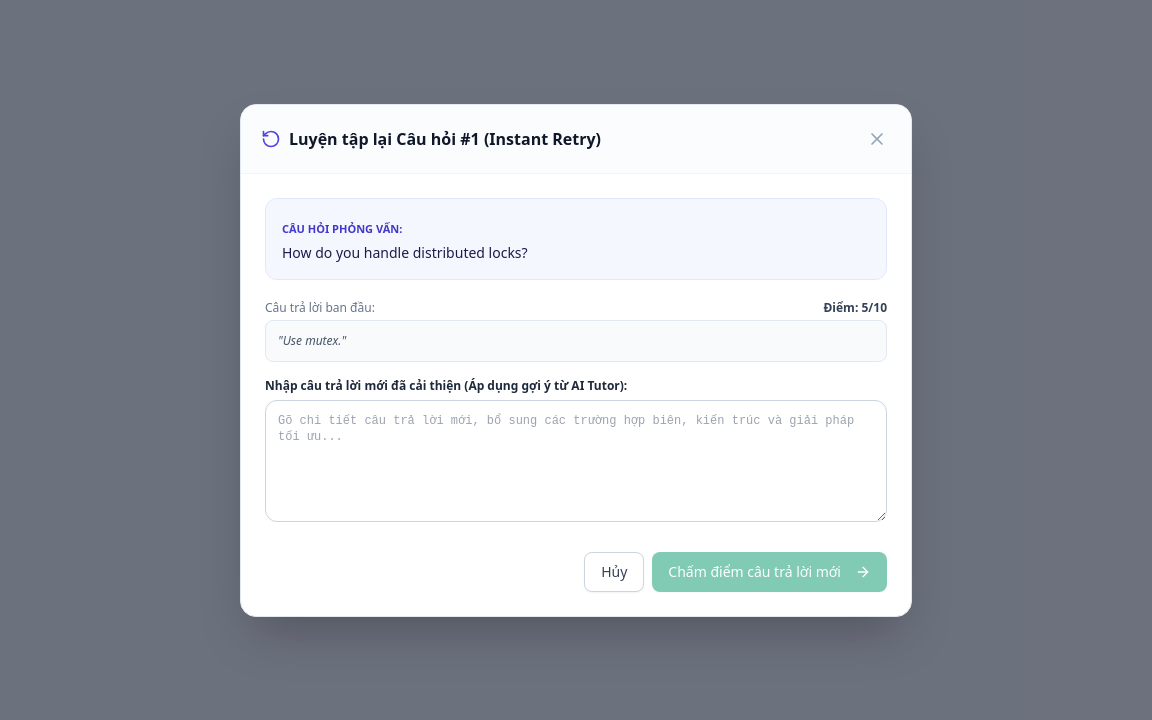
Test: Socratic AI Tutor & Instant Retry Components (F006) › renders InstantRetryModal and computes score delta after submission
expect the heading "Luyện tập lại Câu hỏi #1 (Instant Retry)" is shown: met, box [289, 126, 601, 150]
expect the text "\"Use mutex.\"" is shown: met, box [265, 320, 887, 362]
Replace the text in the text box with placeholder "Gõ chi tiết câu trả lời mới" with "Use distributed locks with Redlock algorithm and TTL.". click: (576, 460)
box: [265, 400, 887, 522]
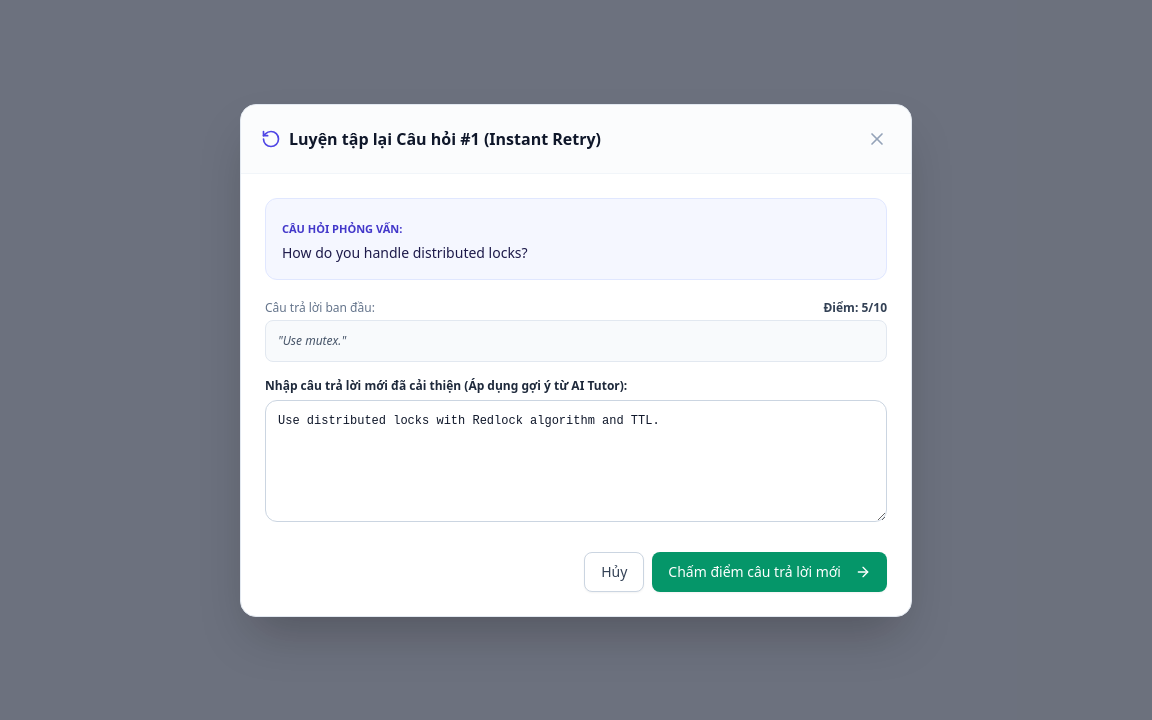
Click the button "Chấm điểm câu trả lời mới". click: (770, 572)
box: [652, 552, 887, 592]
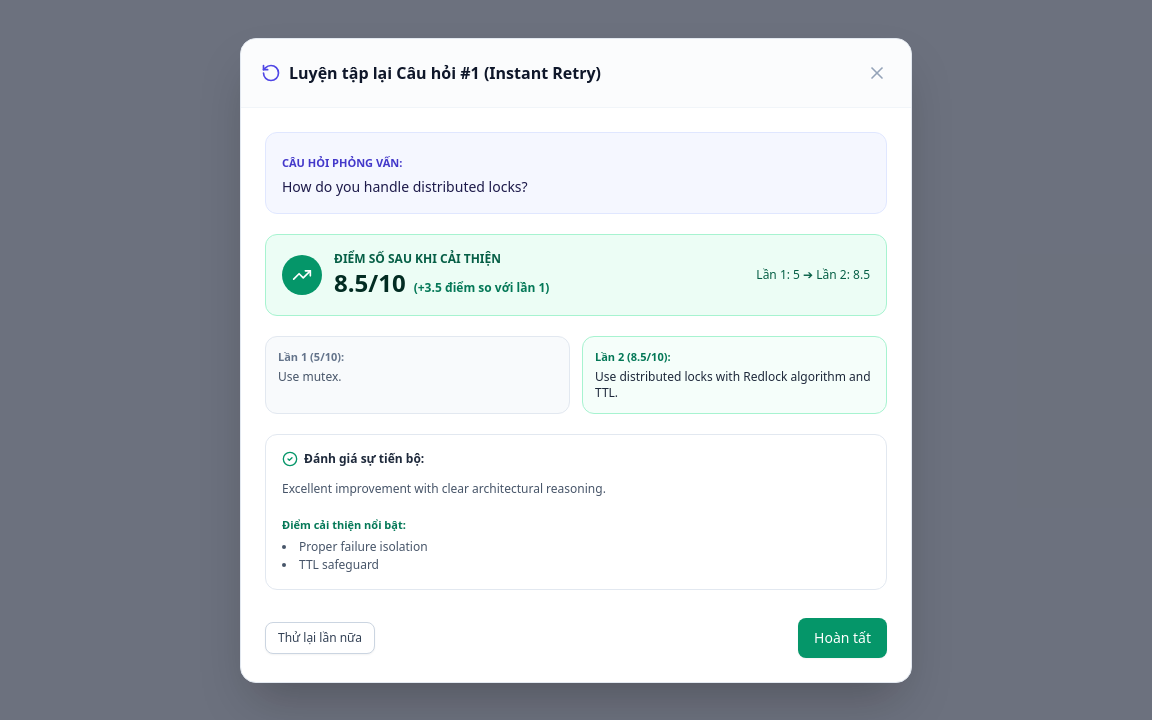
expect the text "Điểm số sau khi cải thiện" is shown: met, box [334, 250, 501, 266]
